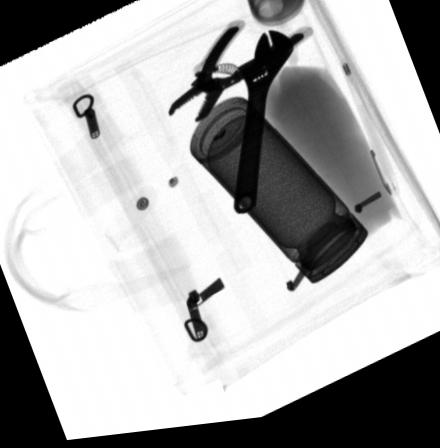Pliers: (167, 25, 316, 127)
Wrench: (230, 34, 296, 220)
